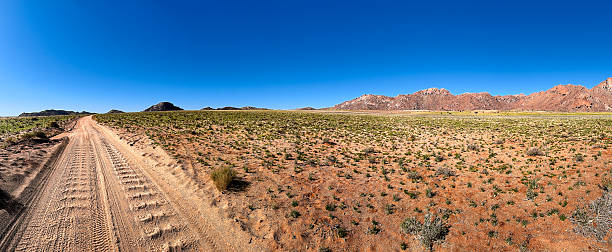vehicle_track: (0, 117, 240, 250), (6, 125, 204, 250), (112, 143, 264, 250), (99, 139, 198, 250), (14, 138, 111, 250), (0, 138, 69, 250)
